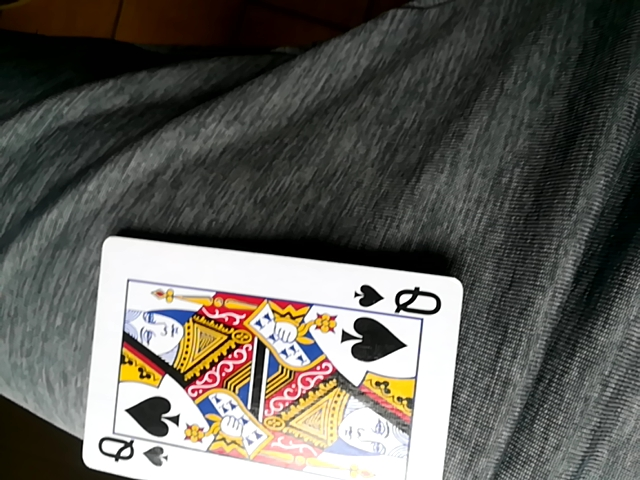ht q: (84, 231, 469, 477)
